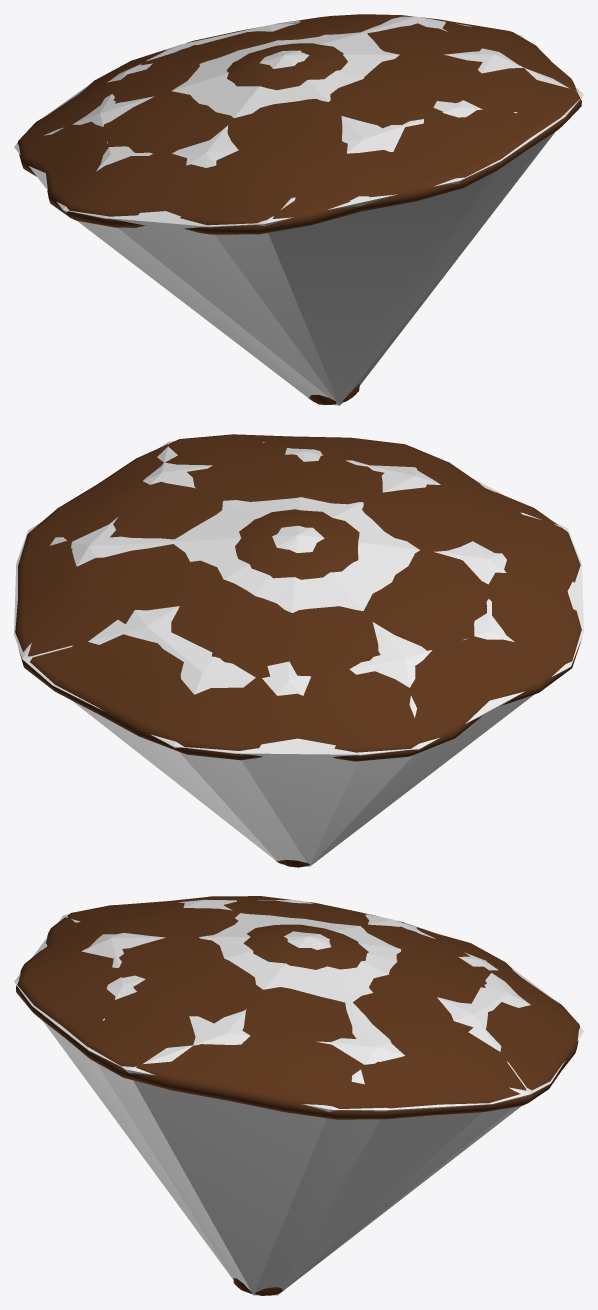
The model's file is mushroom_morel.fbx.
3 views of the same model, one above another, from view 1: azimuth 30°, elevation 25°; view 2: azimuth 150°, elevation 25°; view 3: azimuth 270°, elevation 25° (orthographic). The views are drawn at different scales.
Parts seen in each view (by area): view 1: mushroom_morel, c_mushroom_morel; view 2: mushroom_morel, c_mushroom_morel; view 3: mushroom_morel, c_mushroom_morel.
Part boxes in pixels (<box>): mushroom_morel: <box>17,14,581,405</box>; c_mushroom_morel: <box>14,15,583,405</box>; mushroom_morel: <box>15,434,581,867</box>; c_mushroom_morel: <box>14,441,583,866</box>; mushroom_morel: <box>16,896,579,1295</box>; c_mushroom_morel: <box>14,899,583,1295</box>.
Size of the model in its own units: 16.46 by 10.77 by 16.17.
